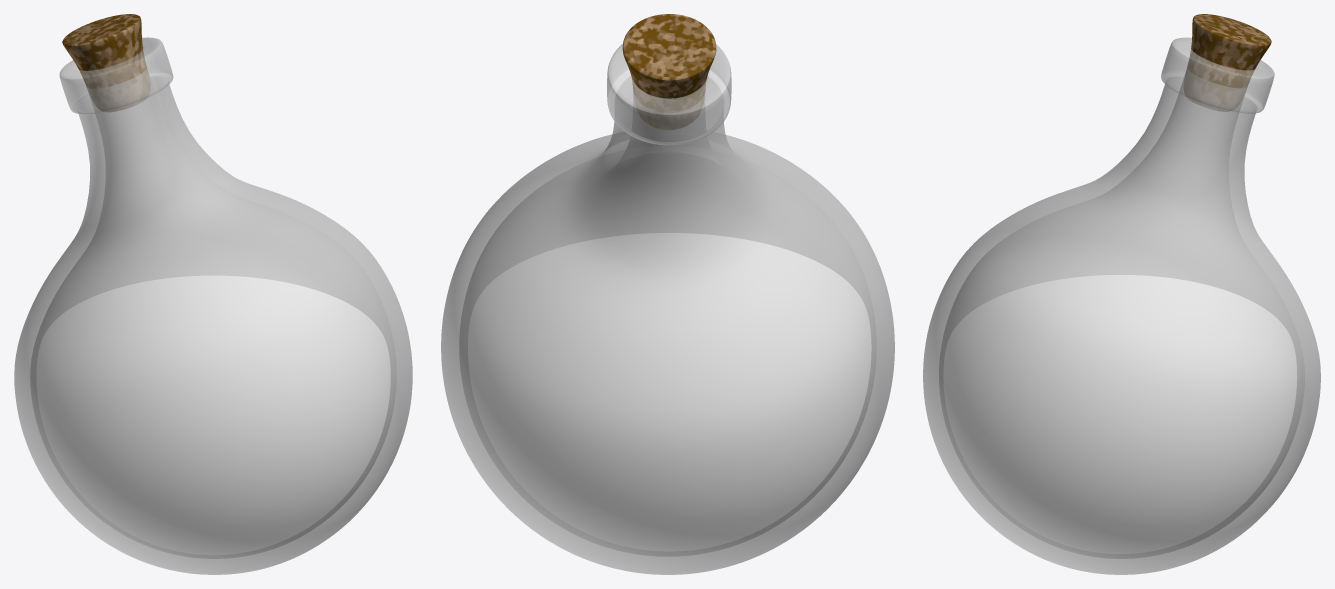
Rendered from charm.fbx.
3 views of the same model, side by side, from view 1: azimuth 30°, elevation 25°; view 2: azimuth 150°, elevation 25°; view 3: azimuth 270°, elevation 25° (orthographic). The views are drawn at different scales.
Visible parts, largest first — view 1: bottle; view 2: bottle; view 3: bottle.
Boxes of the visible parts, x1=… form: bottle: x1=14, y1=14, x2=412, y2=574; bottle: x1=441, y1=14, x2=894, y2=574; bottle: x1=923, y1=14, x2=1320, y2=574.
Bounding box in the file's own units: 169 × 240 × 169.
3 materials, 1 textured.
